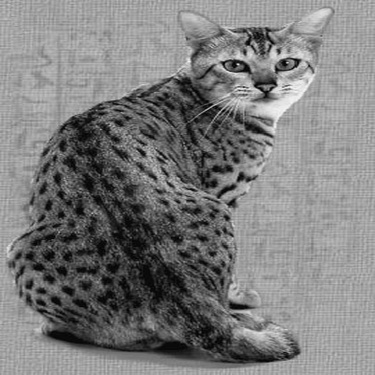cat: (6, 1, 335, 371)
